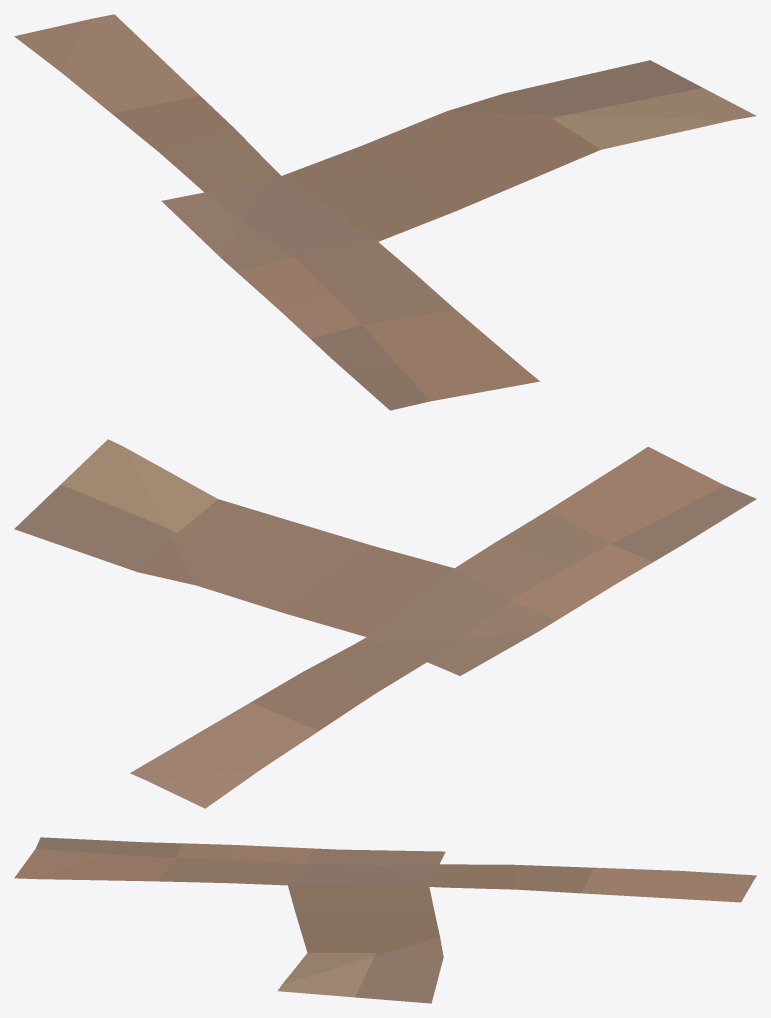
The model's file is farm_31_19_soil.glb.
3 views of the same model, one above another, from view 1: azimuth 30°, elevation 25°; view 2: azimuth 150°, elevation 25°; view 3: azimuth 270°, elevation 25° (orthographic). The views are drawn at different scales.
Visible parts, largest first — view 1: geometry_0; view 2: geometry_0; view 3: geometry_0.
Part boxes in pixels (left/top/right/bottom): geometry_0: left=14, top=14, right=756, bottom=410; geometry_0: left=14, top=439, right=756, bottom=808; geometry_0: left=14, top=837, right=756, bottom=1003.
Size of the model in its own units: 128 by 12.13 by 210.
